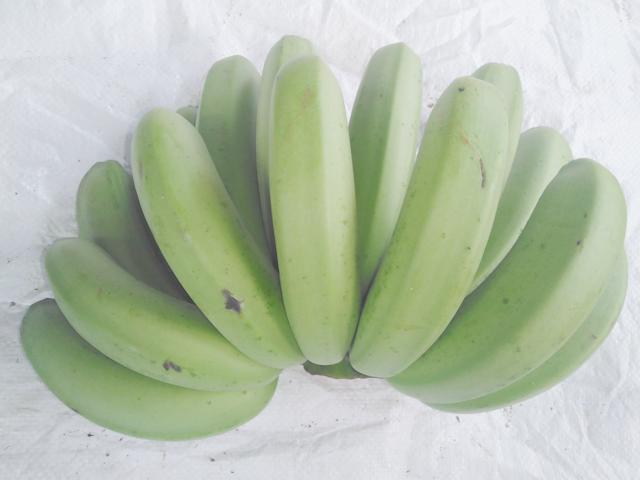freshunripe: (125, 102, 320, 376), (341, 71, 517, 374), (426, 149, 622, 412), (250, 48, 368, 364), (29, 244, 270, 380), (18, 331, 258, 441), (344, 20, 432, 233), (482, 79, 588, 239), (51, 126, 146, 259), (193, 34, 265, 180)
